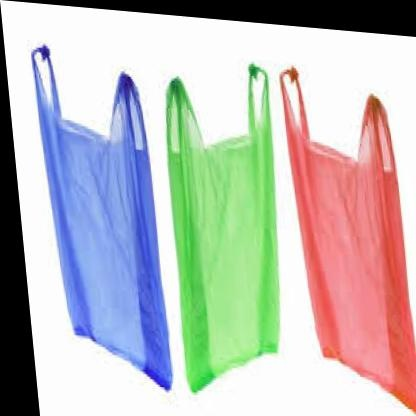trash: (32, 46, 171, 388), (280, 68, 415, 410), (166, 64, 278, 391)
